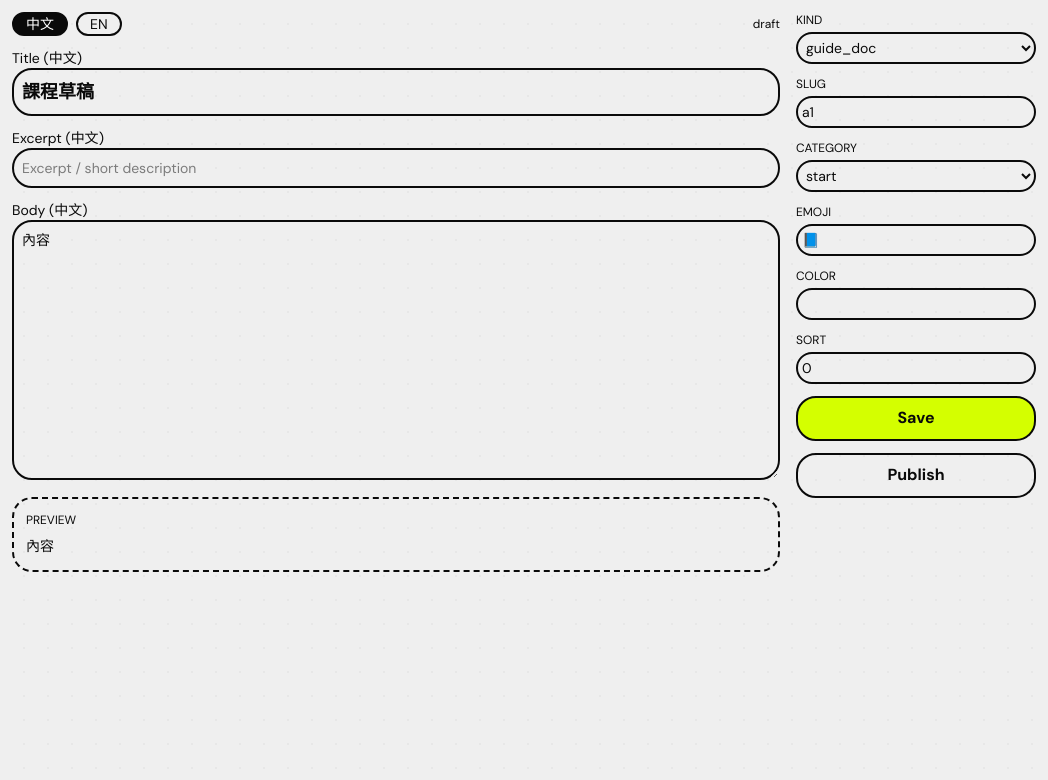
Test: D14 Academy authoring › shows save failure, preserves the body and allows a successful retry
This screenshot has width=1048, height=780.
Expected: the field with placeholder "Title" holds "課程草稿", [12,68,780,116]
Step 1. Replace the text in the text box with placeholder "Markdown…" with "保留的正文" → (396, 350), box [12,220,780,480]
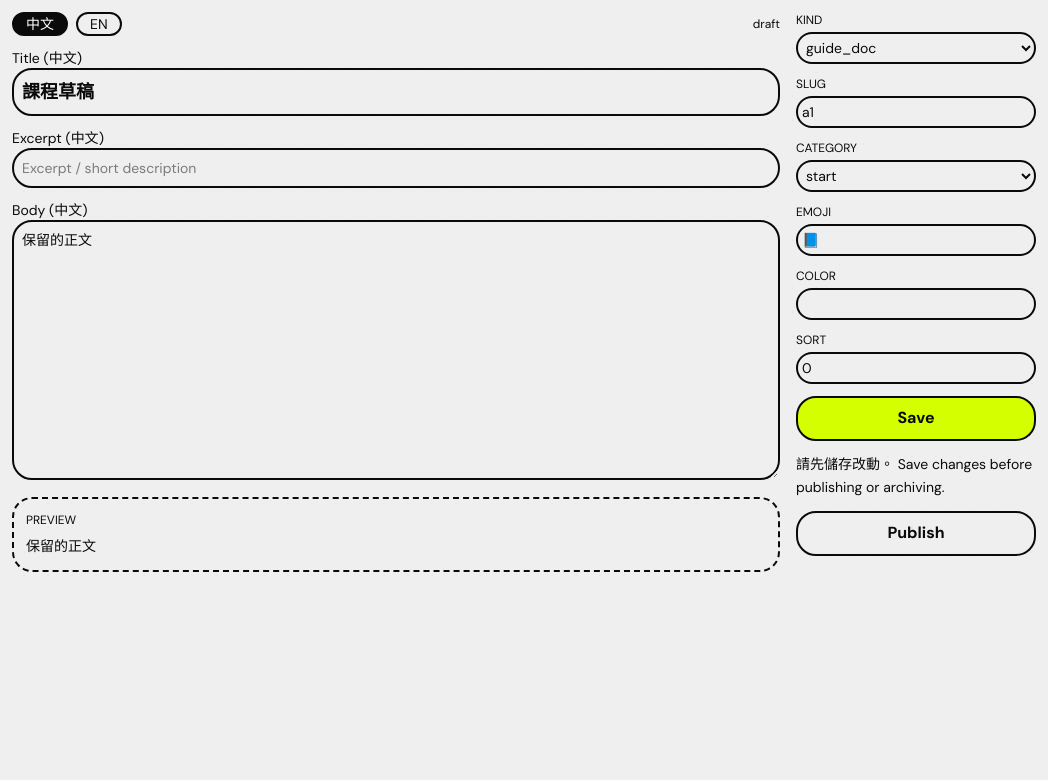
Step 2. Click the button "Save" → (916, 418), box [796,396,1036,441]
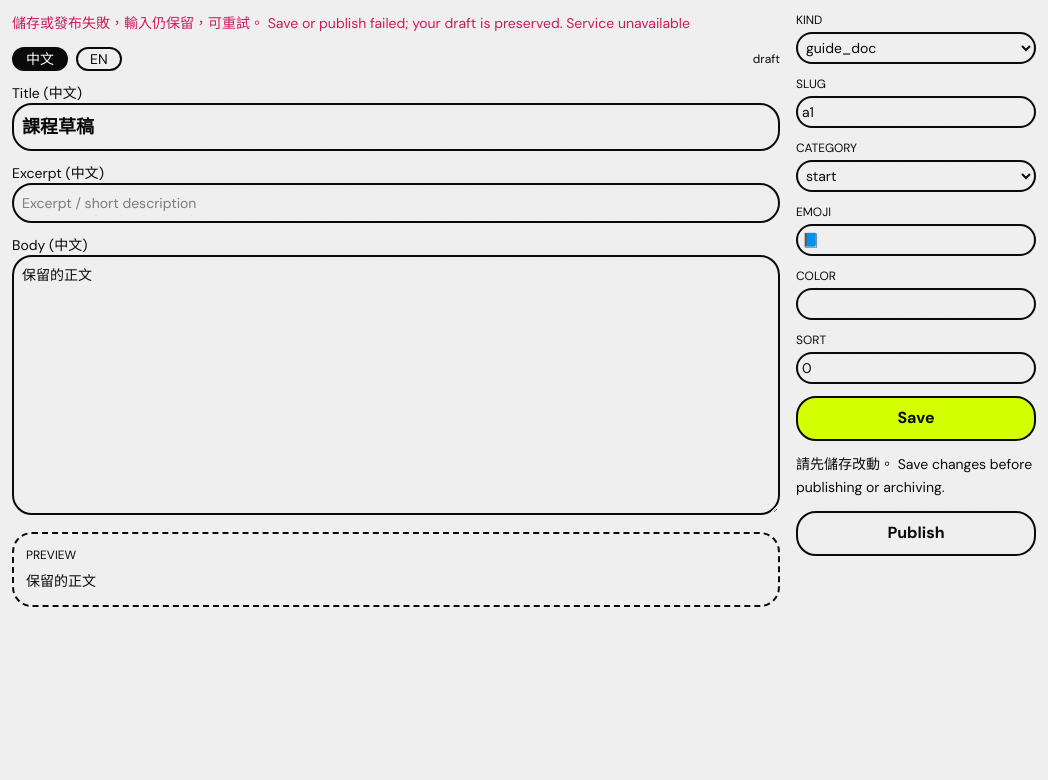
Now the message shows "Service unavailable", box [566,14,690,32]
Step 3. Click the button "Save" → (916, 418), box [796,396,1036,441]
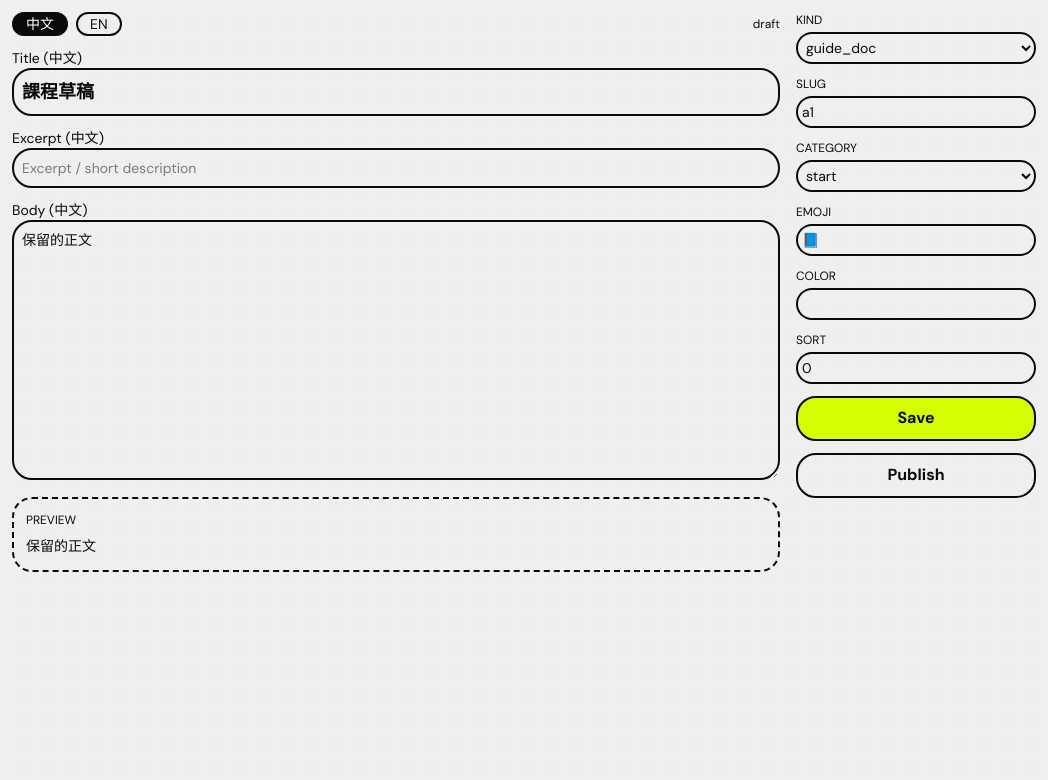
Now the message is gone
